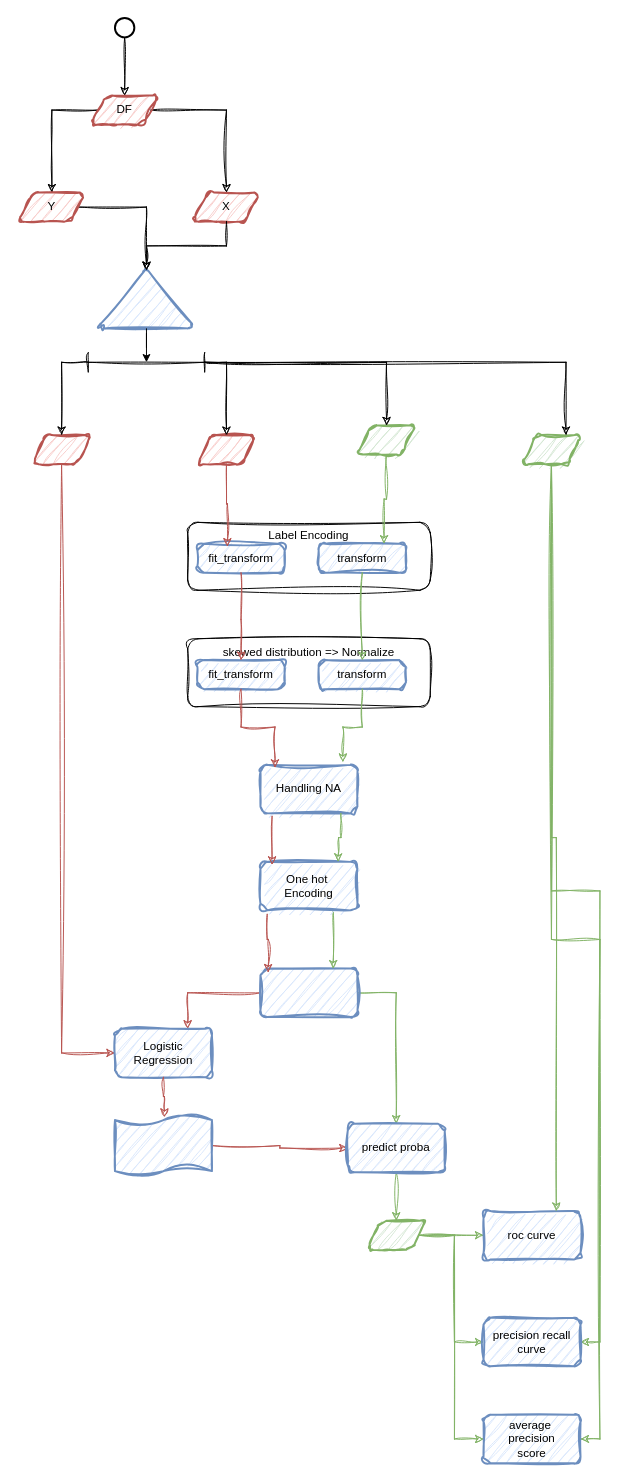
This 625x1480 diagram has some shape labels left out. Here are the shapes that lost their labels. From the top down, the box of each, then its label:
(99, 269, 193, 329): train test split
(31, 434, 91, 465): y_train
(196, 434, 256, 465): X_train
(356, 424, 416, 455): X_test
(521, 434, 581, 465): y_test
(259, 967, 358, 1018): Scale
(113, 1113, 212, 1178): model
(366, 1219, 426, 1250): y_probs
